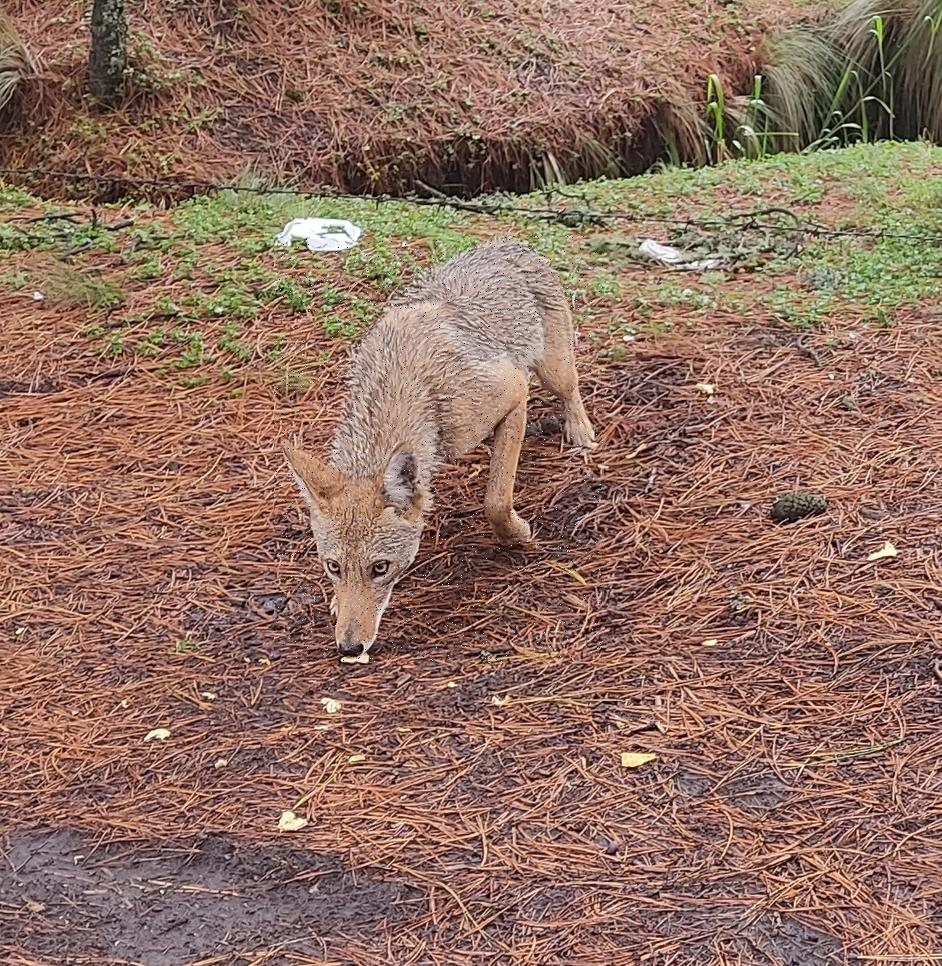Coyote: (275, 236, 604, 663)
